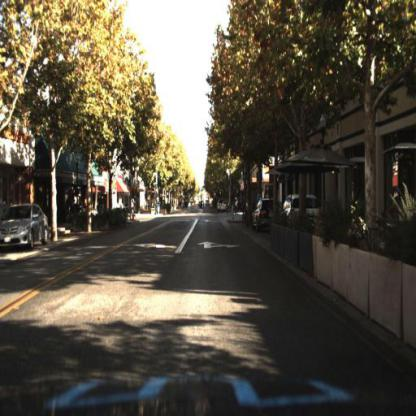car: (3, 202, 54, 256), (285, 192, 319, 230), (252, 194, 280, 232)
pedestrian: (132, 199, 135, 217)
trafficLight-Red: (224, 160, 233, 183)
